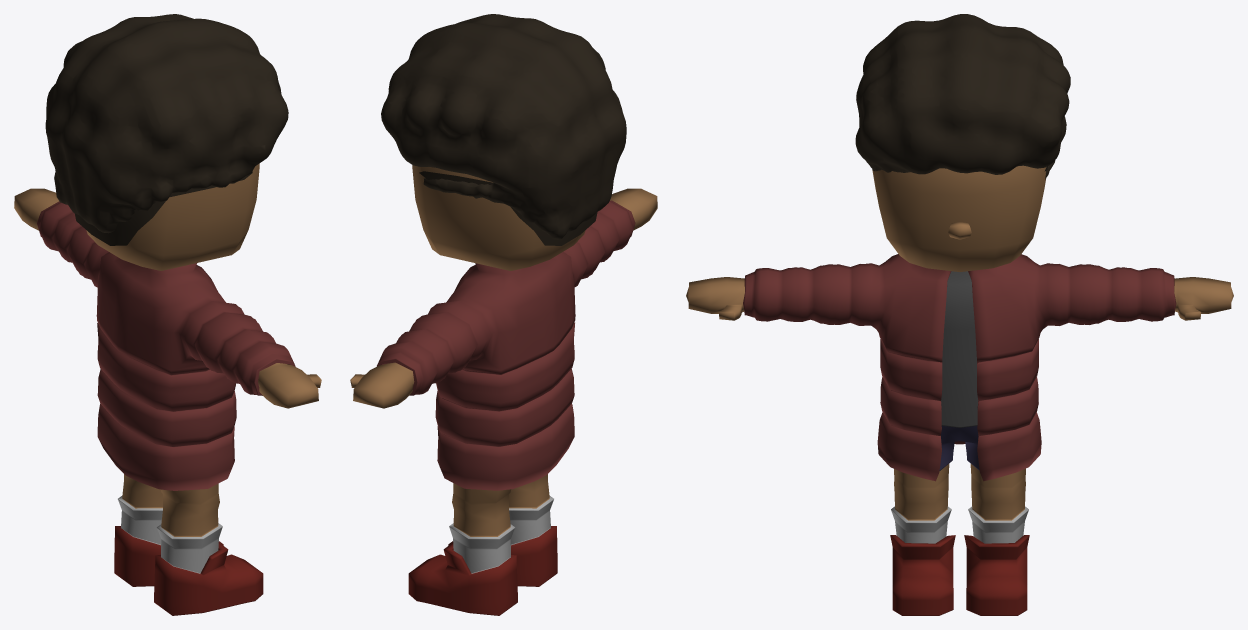
File: player-v4-colored.fbx
The picture shows the model from 3 angles, left to right: view 1: azimuth 30°, elevation 25°; view 2: azimuth 150°, elevation 25°; view 3: azimuth 270°, elevation 25°; orthographic projection.
Parts seen in each view (by area): view 1: Mball, Cylinder.001, Cylinder, Cylinder.002; view 2: Mball, Cylinder.001, Cylinder, Cylinder.002; view 3: Cylinder.001, Cylinder, Mball.
Boxes of the visible parts, bbox=[...] form: Mball: bbox=[45, 14, 288, 233]; Cylinder.001: bbox=[37, 201, 295, 490]; Cylinder: bbox=[14, 163, 321, 615]; Cylinder.002: bbox=[74, 172, 252, 245]; Mball: bbox=[381, 14, 626, 239]; Cylinder.001: bbox=[377, 200, 635, 490]; Cylinder: bbox=[350, 165, 657, 615]; Cylinder.002: bbox=[419, 167, 597, 245]; Cylinder.001: bbox=[743, 254, 1176, 481]; Cylinder: bbox=[686, 165, 1233, 615]; Mball: bbox=[855, 14, 1070, 179].
Size of the model in its own units: 149 by 413 by 369.
